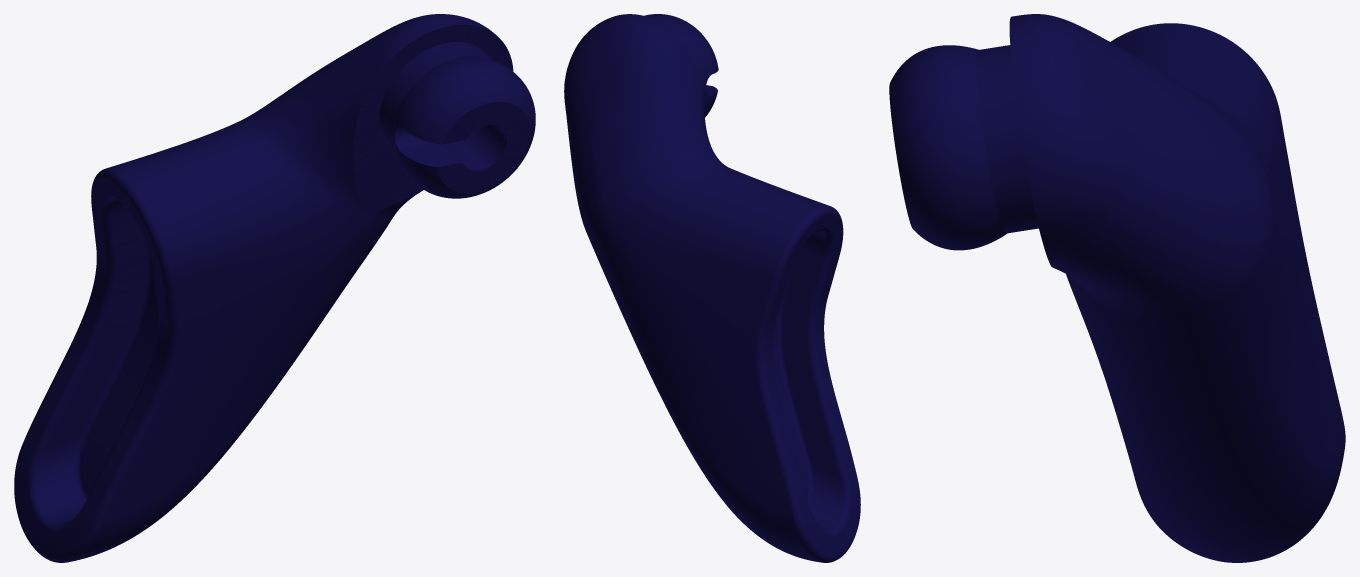
File: 手袖右边_dark_purple.obj
3 renders of one model, left to right at view 1: azimuth 30°, elevation 25°; view 2: azimuth 150°, elevation 25°; view 3: azimuth 270°, elevation 25°, orthographic. The views are drawn at different scales.
Size of the model in its own units: 37.1 by 46.19 by 26.67.
